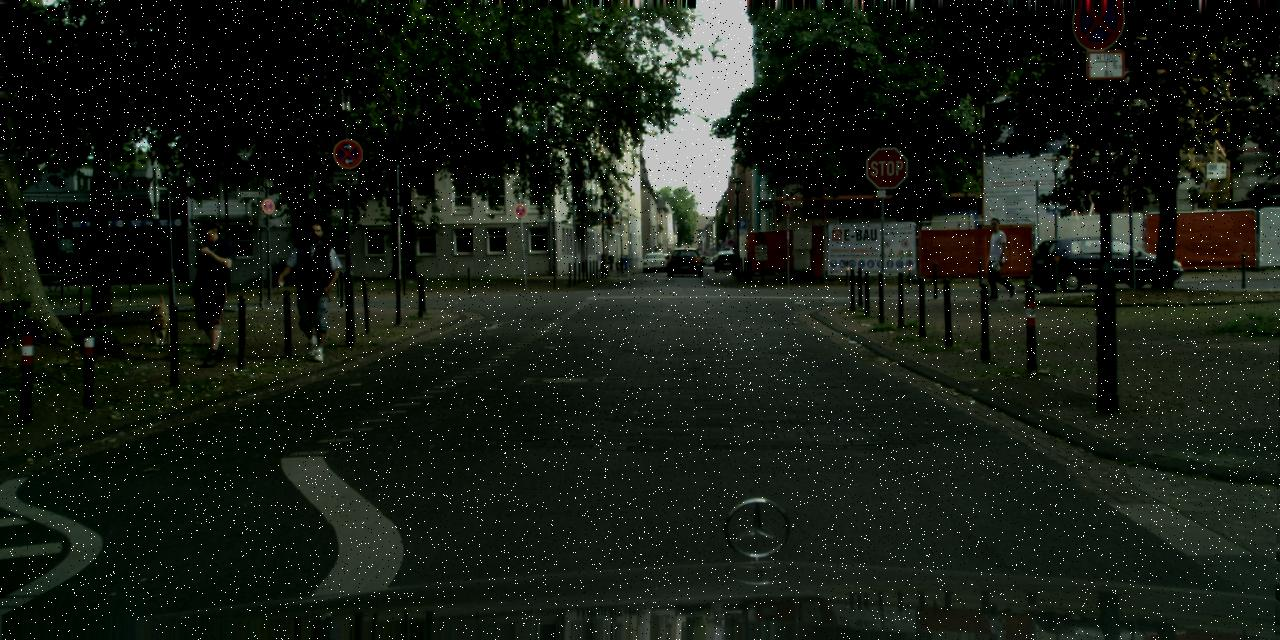ped: (186, 219, 243, 362), (288, 222, 344, 358), (983, 218, 1015, 296)
